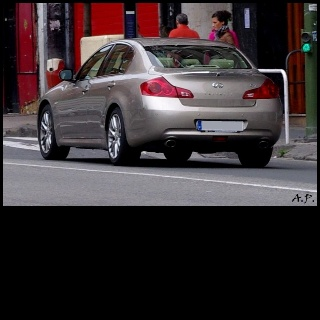without_mask: (212, 15, 224, 30), (211, 15, 222, 30)
